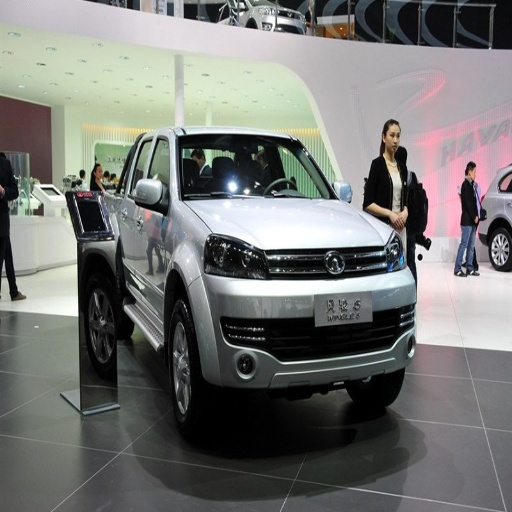front_bumper: (189, 244, 416, 388)
front_right_door: (125, 136, 173, 316)
front_right_light: (204, 235, 267, 279)
hood: (190, 199, 392, 249)
trunk: (347, 71, 403, 115), (457, 112, 508, 147)
